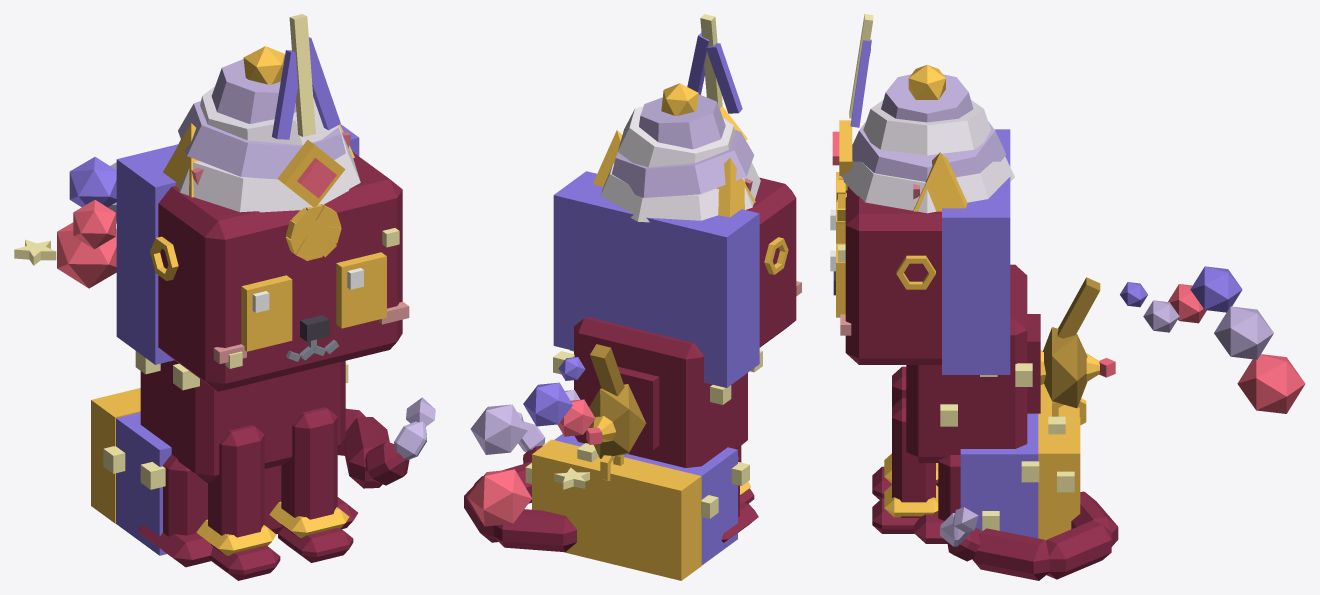
The model's file is CatCafe_Cat_Djinn_Sit.fbx.
3 renders of one model, left to right at view 1: azimuth 30°, elevation 25°; view 2: azimuth 150°, elevation 25°; view 3: azimuth 270°, elevation 25°, orthographic. The views are drawn at different scales.
Visible parts, largest first — view 1: CatCafe_Cat_Djinn_Sit_Head, CatCafe_Cat_Djinn_Sit_Body, CatCafe_Cat_Djinn_Sit_Prop, CatCafe_Cat_Djinn_Sit_LegF1, CatCafe_Cat_Djinn_Sit_LegF2, CatCafe_Cat_Djinn_Sit_Smoke_Glow, CatCafe_Cat_Djinn_Sit_Glow, CatCafe_Cat_Djinn_Sit_Tail, CatCafe_Cat_Djinn_Sit_Eye2, CatCafe_Cat_Djinn_Sit_Eye1, CatCafe_Cat_Djinn_Sit_EarR; view 2: CatCafe_Cat_Djinn_Sit_Body, CatCafe_Cat_Djinn_Sit_Head, CatCafe_Cat_Djinn_Sit_Prop, CatCafe_Cat_Djinn_Sit_Smoke_Glow, CatCafe_Cat_Djinn_Sit_Prop2, CatCafe_Cat_Djinn_Sit_Tail, CatCafe_Cat_Djinn_Sit_Glow, CatCafe_Cat_Djinn_Sit_EarR, CatCafe_Cat_Djinn_Sit_EarL; view 3: CatCafe_Cat_Djinn_Sit_Head, CatCafe_Cat_Djinn_Sit_Body, CatCafe_Cat_Djinn_Sit_Prop, CatCafe_Cat_Djinn_Sit_Smoke_Glow, CatCafe_Cat_Djinn_Sit_Tail, CatCafe_Cat_Djinn_Sit_Prop2, CatCafe_Cat_Djinn_Sit_LegF1, CatCafe_Cat_Djinn_Sit_EarL, CatCafe_Cat_Djinn_Sit_Glow, CatCafe_Cat_Djinn_Sit_LegF2, CatCafe_Cat_Djinn_Sit_Eye1.
Boxes of the visible parts, <box> form: CatCafe_Cat_Djinn_Sit_Head: <box>116,124,409,391</box>; CatCafe_Cat_Djinn_Sit_Body: <box>91,351,357,567</box>; CatCafe_Cat_Djinn_Sit_Prop: <box>150,46,360,280</box>; CatCafe_Cat_Djinn_Sit_LegF1: <box>269,407,353,562</box>; CatCafe_Cat_Djinn_Sit_LegF2: <box>196,425,280,580</box>; CatCafe_Cat_Djinn_Sit_Smoke_Glow: <box>14,157,116,288</box>; CatCafe_Cat_Djinn_Sit_Glow: <box>272,14,340,198</box>; CatCafe_Cat_Djinn_Sit_Tail: <box>337,397,435,488</box>; CatCafe_Cat_Djinn_Sit_Eye2: <box>241,275,292,351</box>; CatCafe_Cat_Djinn_Sit_Eye1: <box>336,252,386,328</box>; CatCafe_Cat_Djinn_Sit_EarR: <box>163,123,203,197</box>; CatCafe_Cat_Djinn_Sit_Body: <box>525,316,762,580</box>; CatCafe_Cat_Djinn_Sit_Head: <box>553,171,801,387</box>; CatCafe_Cat_Djinn_Sit_Prop: <box>600,83,788,274</box>; CatCafe_Cat_Djinn_Sit_Smoke_Glow: <box>467,357,595,526</box>; CatCafe_Cat_Djinn_Sit_Prop2: <box>586,344,659,480</box>; CatCafe_Cat_Djinn_Sit_Tail: <box>464,412,576,552</box>; CatCafe_Cat_Djinn_Sit_Glow: <box>687,14,742,113</box>; CatCafe_Cat_Djinn_Sit_EarR: <box>716,157,755,217</box>; CatCafe_Cat_Djinn_Sit_EarL: <box>593,130,622,186</box>; CatCafe_Cat_Djinn_Sit_Head: <box>833,129,1010,374</box>; CatCafe_Cat_Djinn_Sit_Body: <box>906,264,1080,543</box>; CatCafe_Cat_Djinn_Sit_Prop: <box>839,64,1014,289</box>; CatCafe_Cat_Djinn_Sit_Smoke_Glow: <box>1120,266,1305,413</box>; CatCafe_Cat_Djinn_Sit_Tail: <box>939,491,1118,580</box>; CatCafe_Cat_Djinn_Sit_Prop2: <box>1027,277,1115,425</box>; CatCafe_Cat_Djinn_Sit_LegF1: <box>872,398,938,533</box>; CatCafe_Cat_Djinn_Sit_EarL: <box>913,152,967,211</box>; CatCafe_Cat_Djinn_Sit_Glow: <box>832,14,873,165</box>; CatCafe_Cat_Djinn_Sit_LegF2: <box>872,366,938,499</box>; CatCafe_Cat_Djinn_Sit_Eye1: <box>830,243,845,317</box>.
Size of the model in its own units: 1.33 by 2.36 by 2.05.
1 material, 1 textured.
